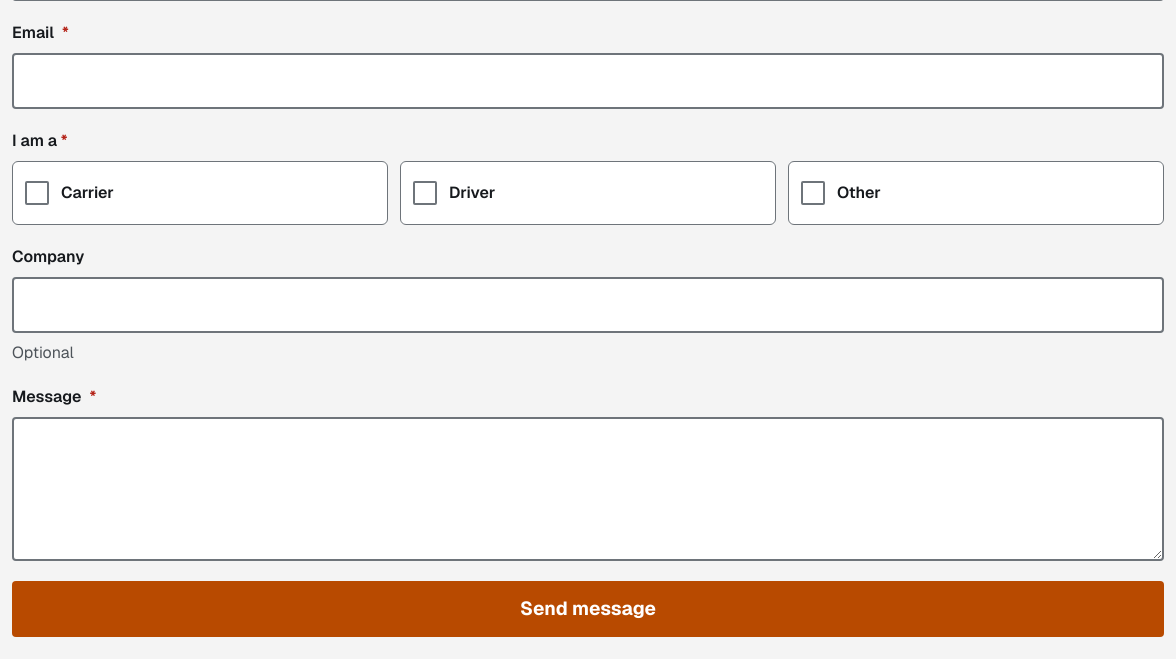
Scenario: ContactForm › an empty submit lists every error at the top, focuses the list, and shows them under the fields
(page scrolled)
Click the button "Send message". click: [588, 609]
box: [12,581,1164,637]
(page scrolled)
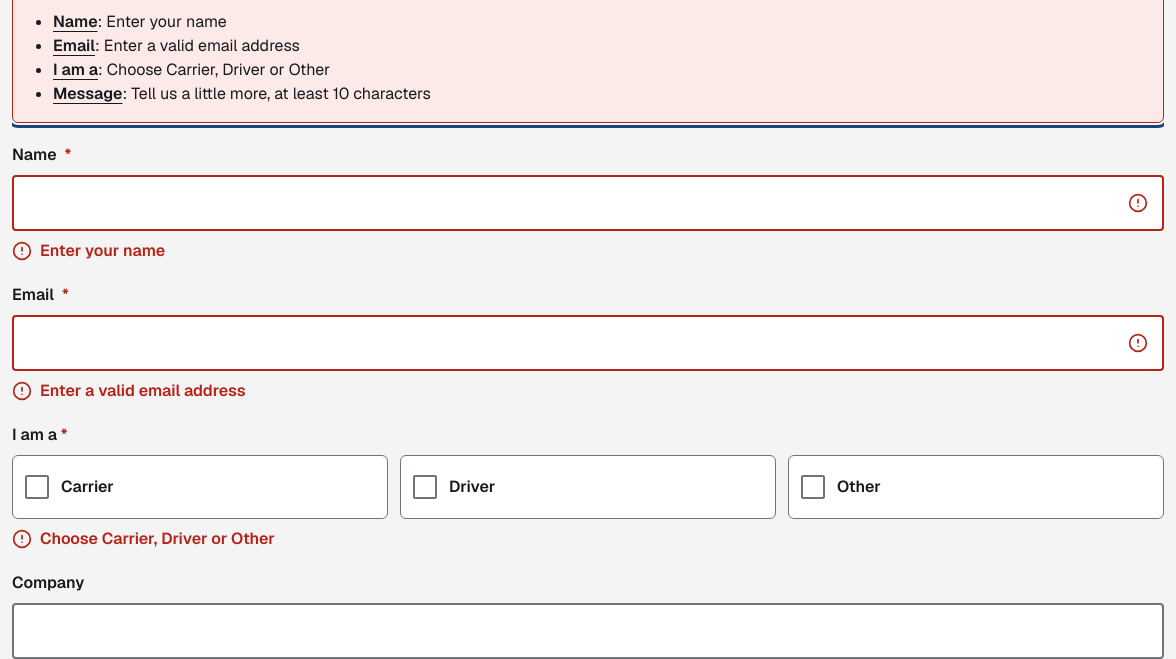
Expected: the links read "Name", "Email", "I am a", "Message", in this order, [53,11,98,32]; [53,35,95,56]; [53,59,98,80]; [53,83,122,104]
Expected: the text "Choose Carrier, Driver or Other" is shown, [40,527,275,551]
